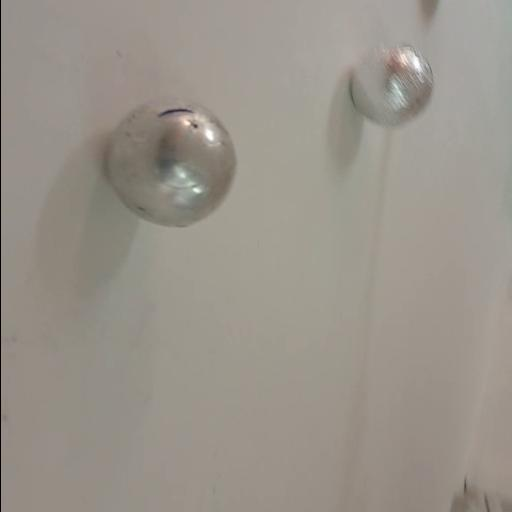alive: (100, 96, 240, 232), (348, 40, 435, 128)
